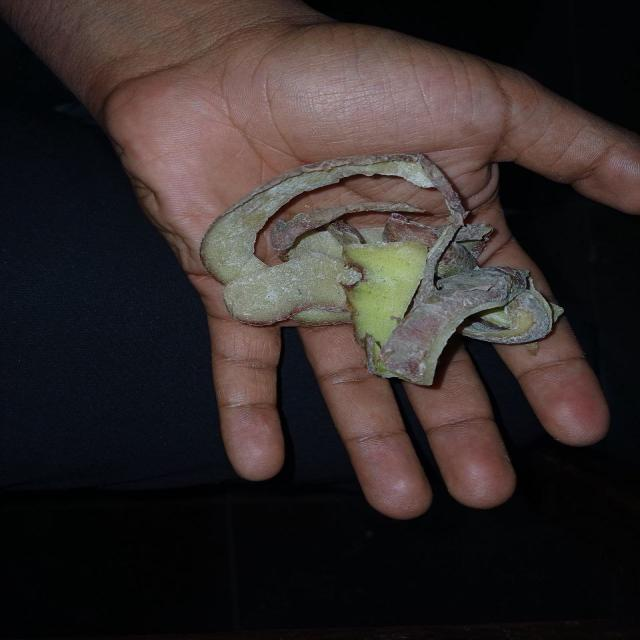organic: (205, 153, 566, 385)
